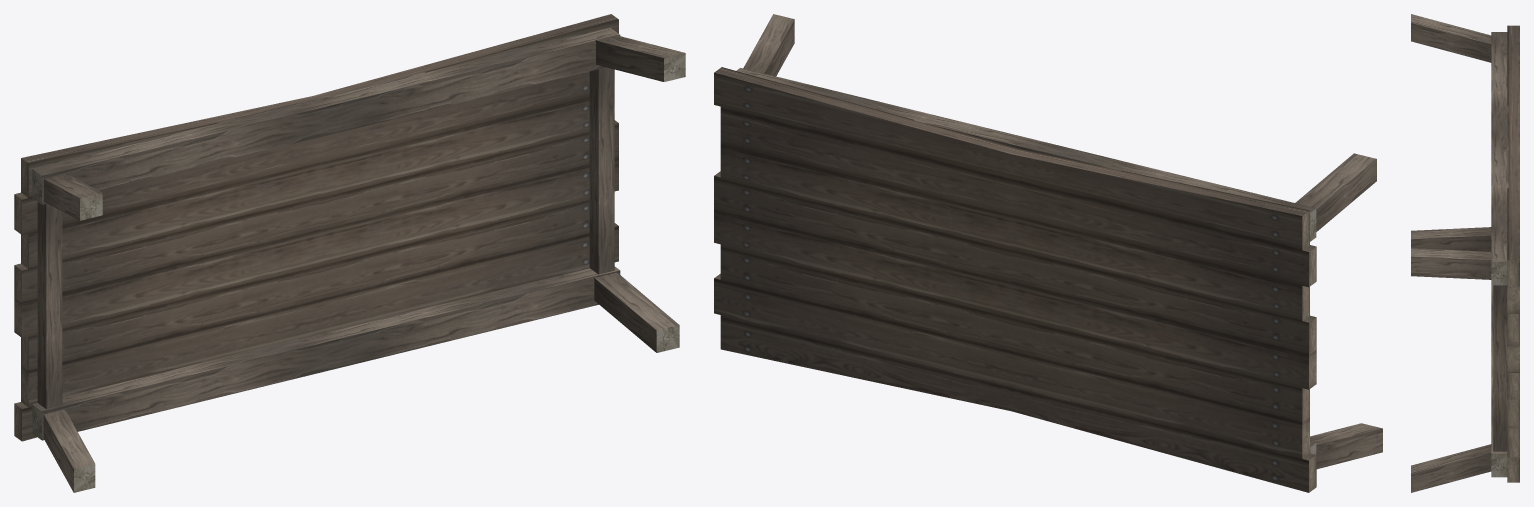
File: Table_Big_A.fbx
3 views of the same model, side by side, from view 1: azimuth 30°, elevation 25°; view 2: azimuth 150°, elevation 25°; view 3: azimuth 270°, elevation 25° (orthographic). The views are drawn at different scales.
Parts seen in each view (by area): view 1: Table_Big_A; view 2: Table_Big_A; view 3: Table_Big_A.
Boxes of the visible parts, left/top/right/bottom form: Table_Big_A: left=14, top=14, right=685, bottom=492; Table_Big_A: left=714, top=14, right=1382, bottom=492; Table_Big_A: left=1411, top=14, right=1519, bottom=492.
Bounding box in the file's own units: 4.9 × 2.26 × 0.9273.
